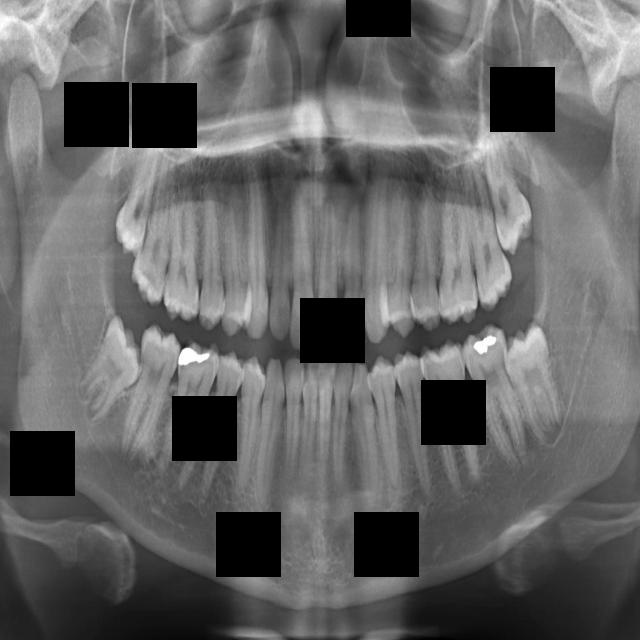3M ESPE Implant: (108, 120, 167, 258)
AGS Medikal Implant: (457, 320, 533, 477)
AMerOss Implant: (417, 337, 485, 499)
Amalgam filling: (127, 140, 187, 307)
Anthogyr Implant: (389, 348, 450, 504)
Bicon Implant: (365, 354, 415, 494)
BioHorizons Implant: (342, 360, 389, 519)
BioLife Implant: (327, 355, 353, 490)
Biomet 3i Implant: (313, 357, 335, 479)
Blue Sky Bio Implant: (300, 359, 319, 475)
Camlog Implant: (282, 356, 305, 492)
Caries: (340, 196, 363, 345)
Composite filling: (250, 357, 289, 513)
Cowellmedi Implant: (227, 355, 267, 496)
Crown: (197, 349, 248, 502)
DENTSPLY Implant: (162, 169, 210, 322)
Dentatus Implant: (150, 335, 224, 496)
Dentis Implant: (128, 452, 129, 453)
Dentium Implant: (64, 311, 158, 431)
Euroteknika Implant: (197, 177, 229, 332)
Filling: (222, 186, 247, 338)
Frontier Implant: (244, 153, 268, 340)
Hiossen Implant: (360, 154, 391, 343)
Implant: (289, 187, 317, 349)
Implant Direct: (267, 184, 297, 343)
Keystone Dental Implant: (314, 194, 346, 349)
MIS Implant: (382, 180, 415, 339)
Mandible: (409, 177, 439, 332)
Maxilla: (437, 183, 478, 325)
Megagen Implant: (460, 145, 517, 313)
Neodent Implant: (478, 116, 538, 257)
Neoss Implant: (499, 319, 568, 452)
